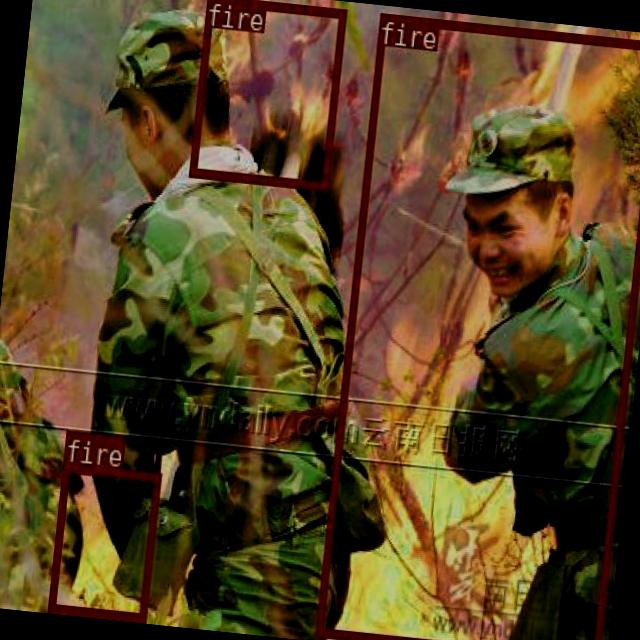fire: (313, 12, 640, 640), (187, 0, 344, 189), (46, 462, 159, 619)
